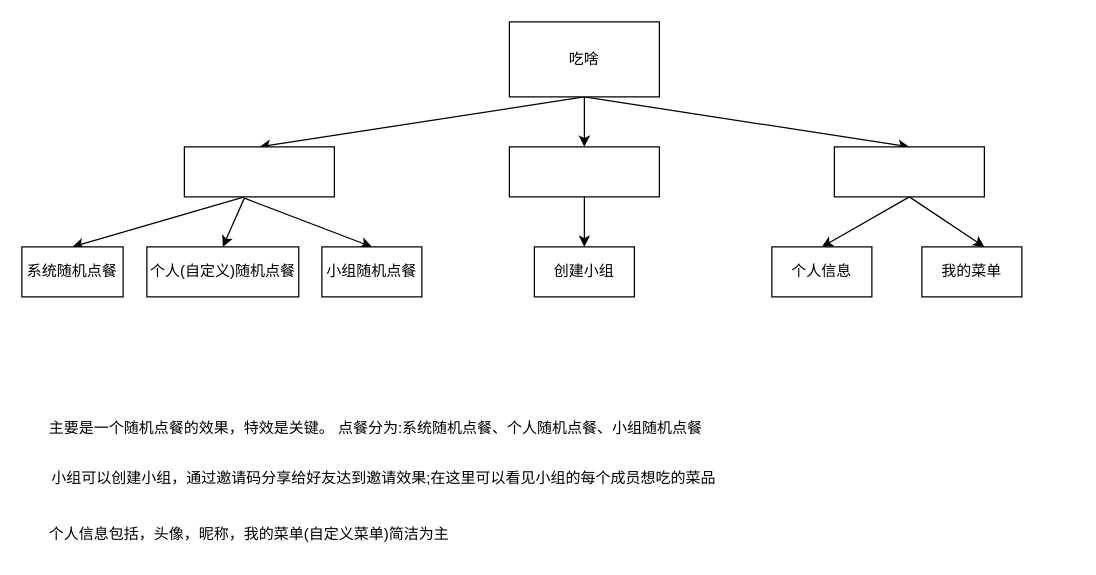
This 1096x575 diagram has some shape labels left out. Here are the shapes that lost their labels. From the top down, the box of each, then its label:
(183, 146, 334, 197): 首页展示
(508, 146, 659, 197): 小组
(833, 146, 984, 197): 我的
